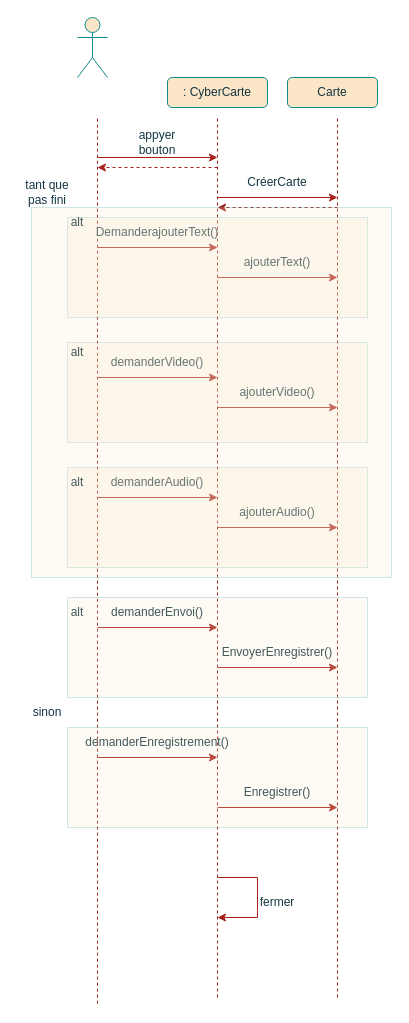
Some shapes in this 409 by 1023 pixel diagram are drawn without their labels. Here are the shapes that lost their labels. From the top down, the box of each, then its label:
(76, 16, 108, 78): Client
(30, 206, 392, 578): loop
